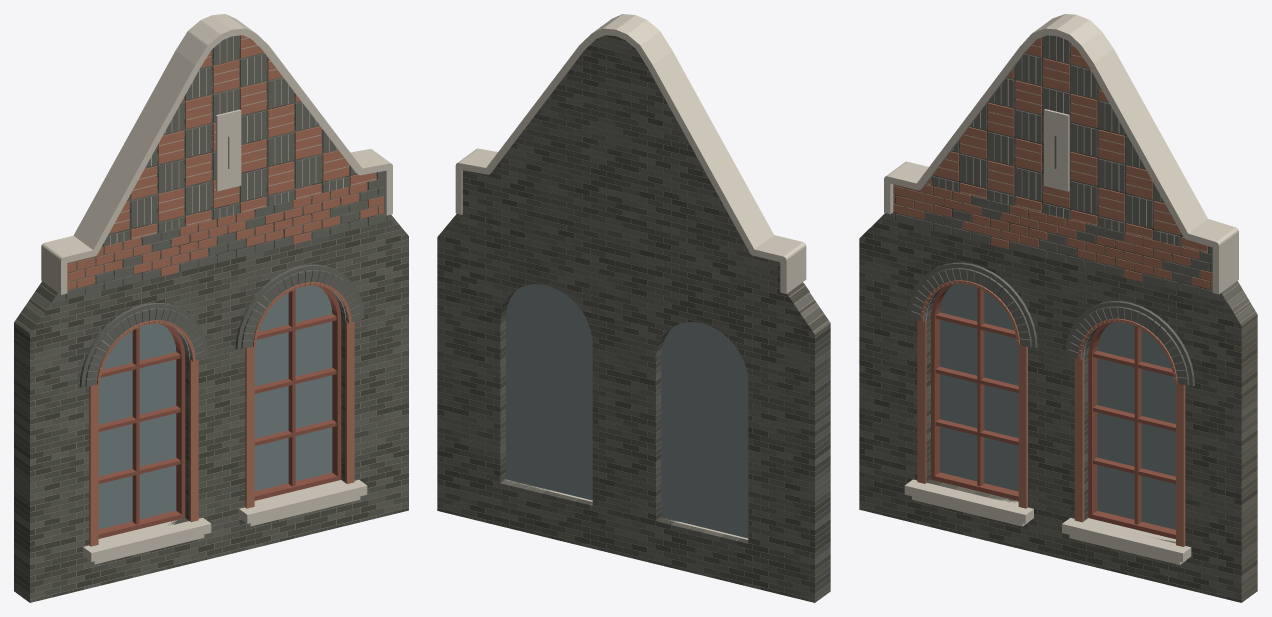
The model's file is huoshan-gable-far.glb.
3 views of the same model, side by side, from view 1: azimuth 30°, elevation 25°; view 2: azimuth 150°, elevation 25°; view 3: azimuth 330°, elevation 25° (orthographic).
Visible parts, largest first — view 1: 霍山路舟山路转角住宅双券窗与棋格山墙; view 2: 霍山路舟山路转角住宅双券窗与棋格山墙; view 3: 霍山路舟山路转角住宅双券窗与棋格山墙.
Boxes of the visible parts, bbox=[...] form: 霍山路舟山路转角住宅双券窗与棋格山墙: bbox=[14, 14, 408, 602]; 霍山路舟山路转角住宅双券窗与棋格山墙: bbox=[437, 14, 830, 602]; 霍山路舟山路转角住宅双券窗与棋格山墙: bbox=[859, 14, 1257, 602].
Bounding box in the file's own units: 4.42 × 5.88 × 0.503.
7 materials, 1 textured.
